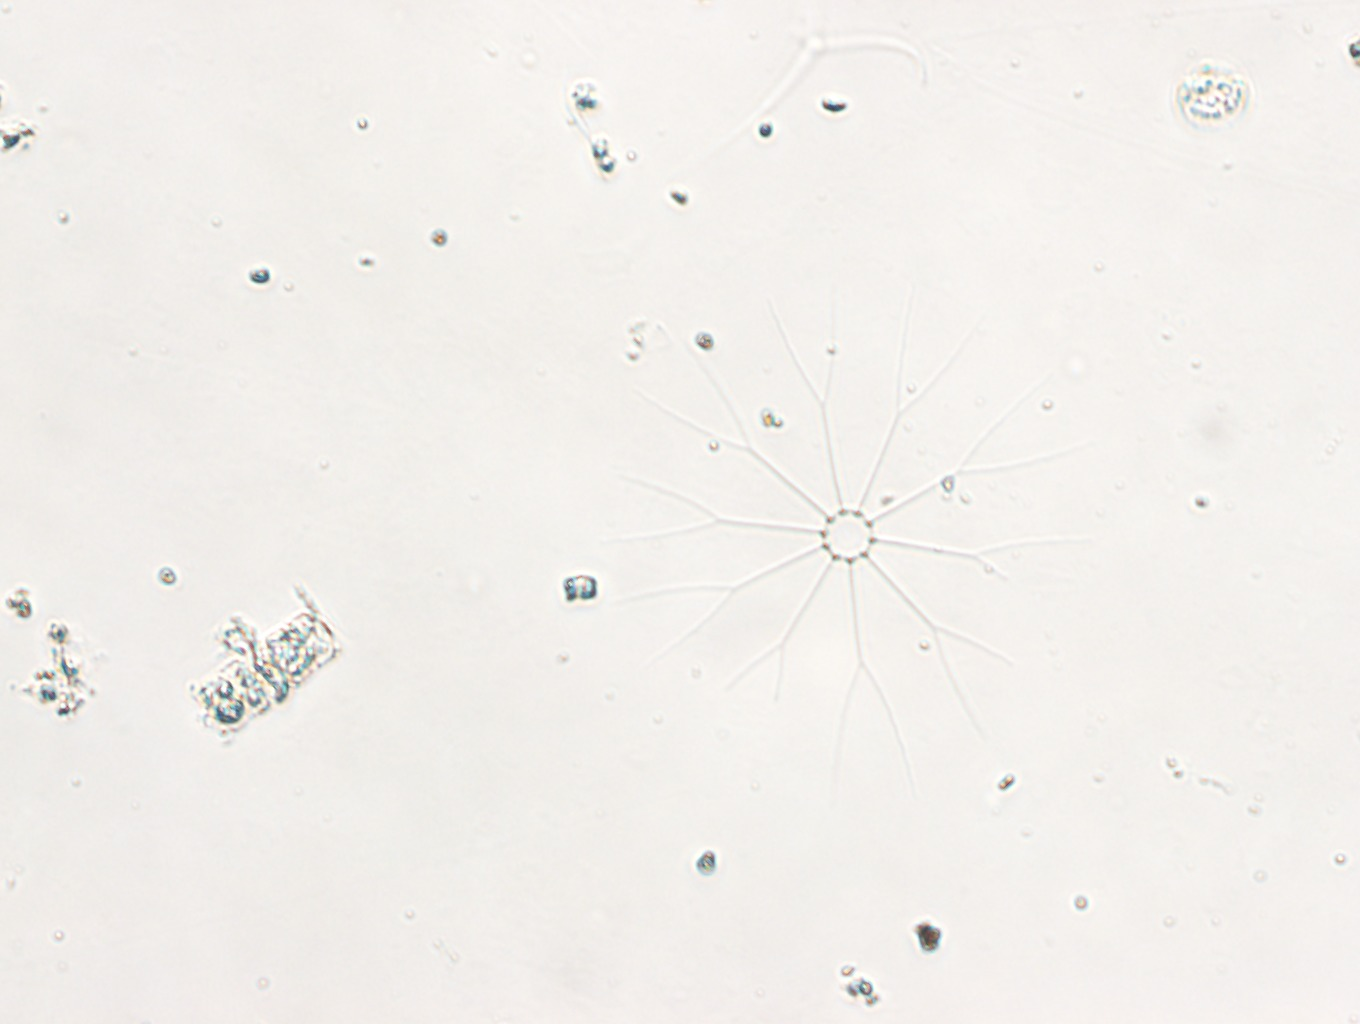bacteriastrum: (595, 283, 1103, 777)
